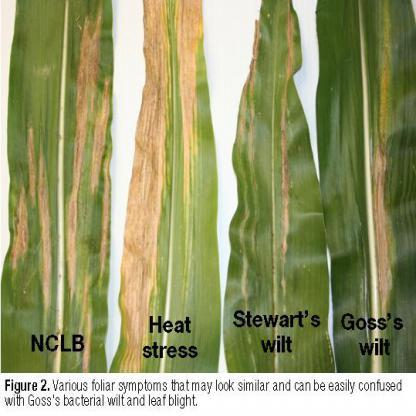Corn leaf blight: (7, 2, 112, 328), (119, 2, 224, 313), (226, 0, 329, 308), (316, 1, 416, 311)
